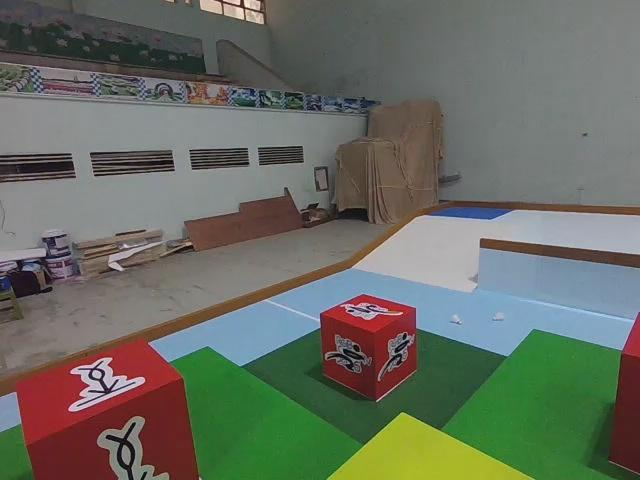R1: (319, 291, 421, 404)
R2 Real: (13, 332, 201, 480)
